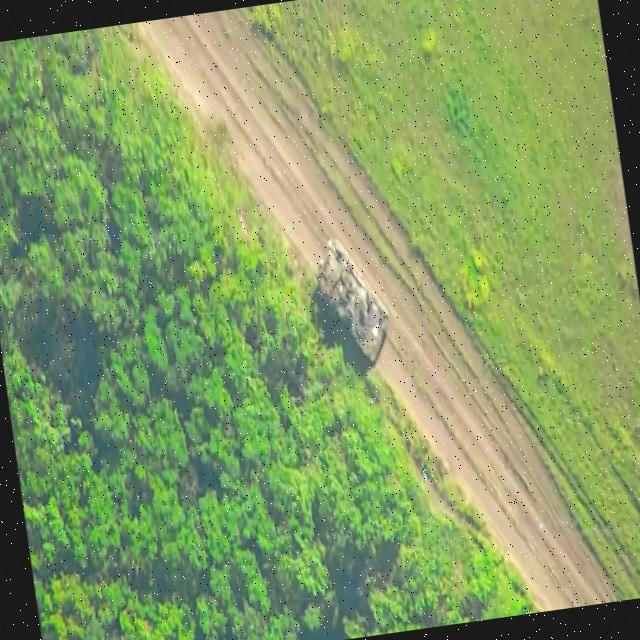AIFV: (310, 233, 398, 375)
